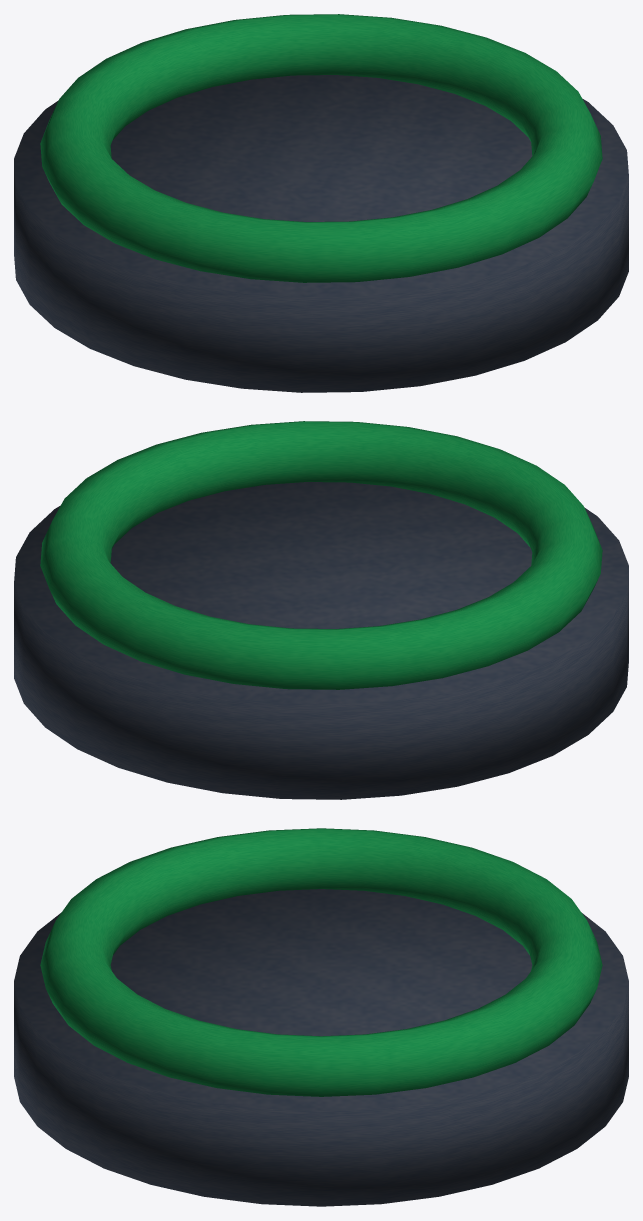
The model's file is SuccessBadge.obj.
The picture shows the model from 3 angles, top to bottom: view 1: azimuth 30°, elevation 25°; view 2: azimuth 150°, elevation 25°; view 3: azimuth 270°, elevation 25°; orthographic projection.
Parts seen in each view (by area): view 1: Badge, Emissive_Border; view 2: Badge, Emissive_Border; view 3: Badge, Emissive_Border.
Part boxes in pixels (x1,y1,x2,y2): Badge: (14, 75, 628, 392); Emissive_Border: (40, 14, 602, 282); Badge: (14, 482, 628, 799); Emissive_Border: (40, 421, 602, 689); Badge: (14, 889, 628, 1206); Emissive_Border: (40, 828, 602, 1096).
Bounding box in the file's own units: 0.07 × 0.018 × 0.07.
